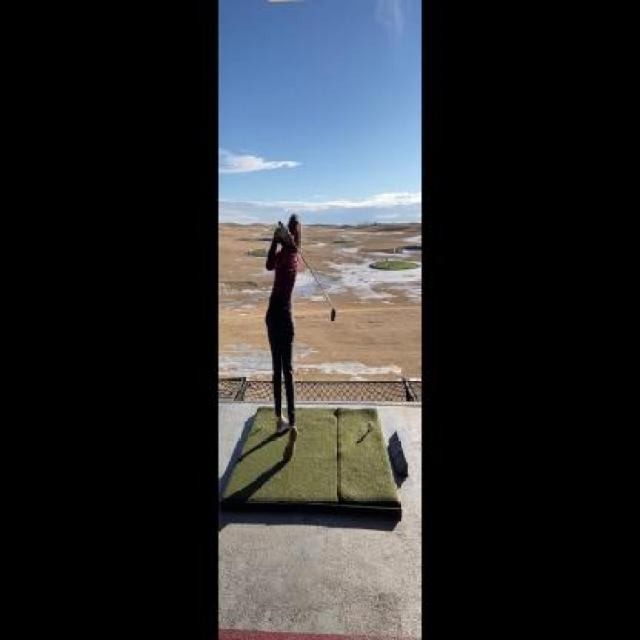club head: (328, 300, 337, 320)
